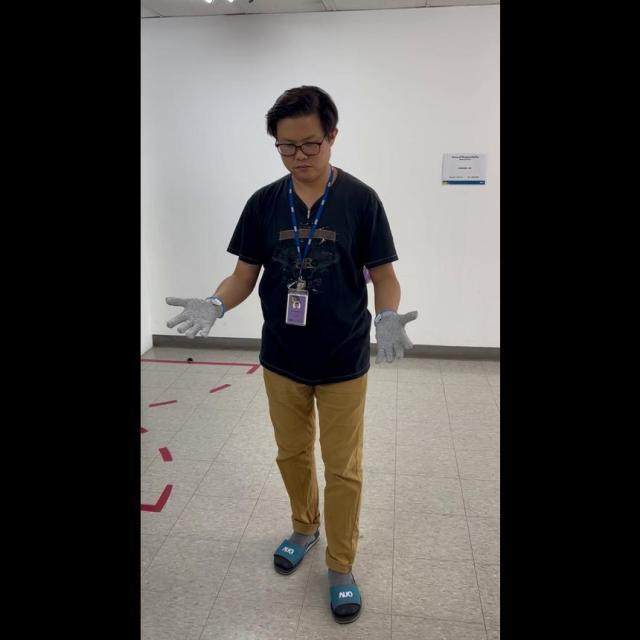gloved_hand: (163, 289, 226, 339), (366, 304, 417, 362)
